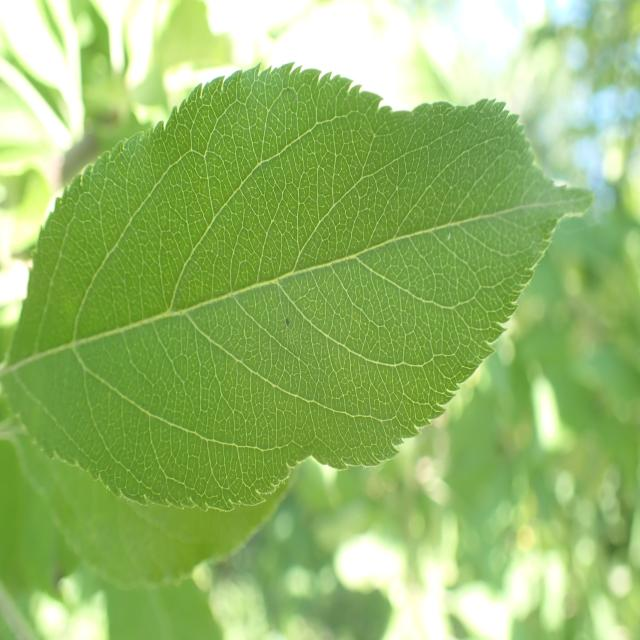healthy: (2, 62, 596, 516), (3, 423, 300, 591)
